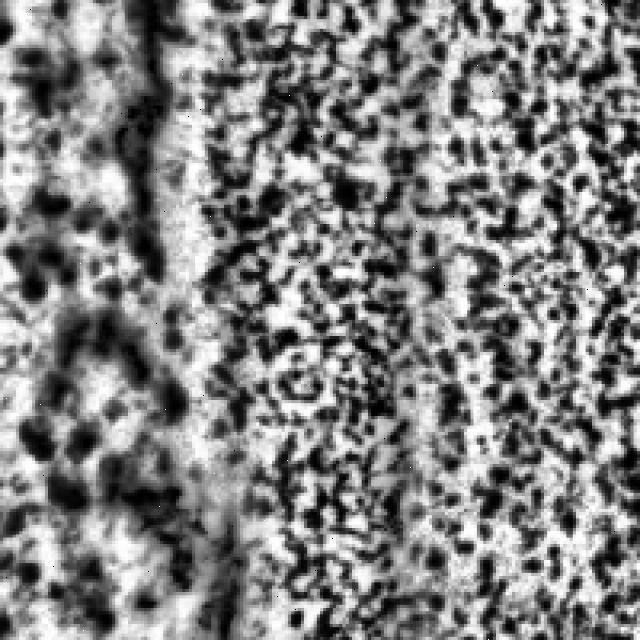Rolled_in_Scale: (243, 0, 640, 630), (3, 0, 221, 621)
Scratches: (121, 483, 252, 637)
